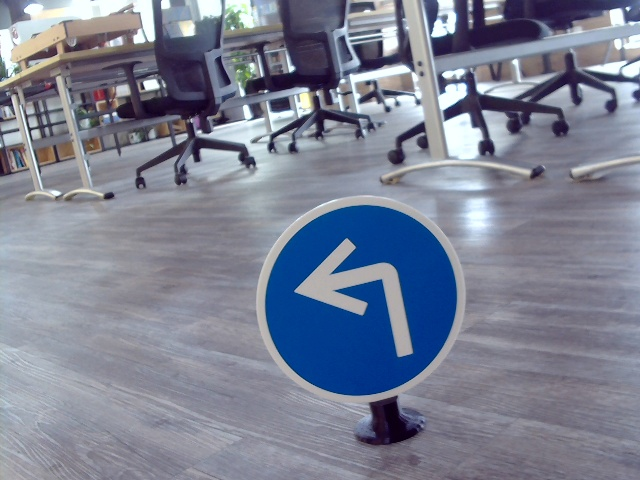turn_left: (295, 236, 418, 360)
